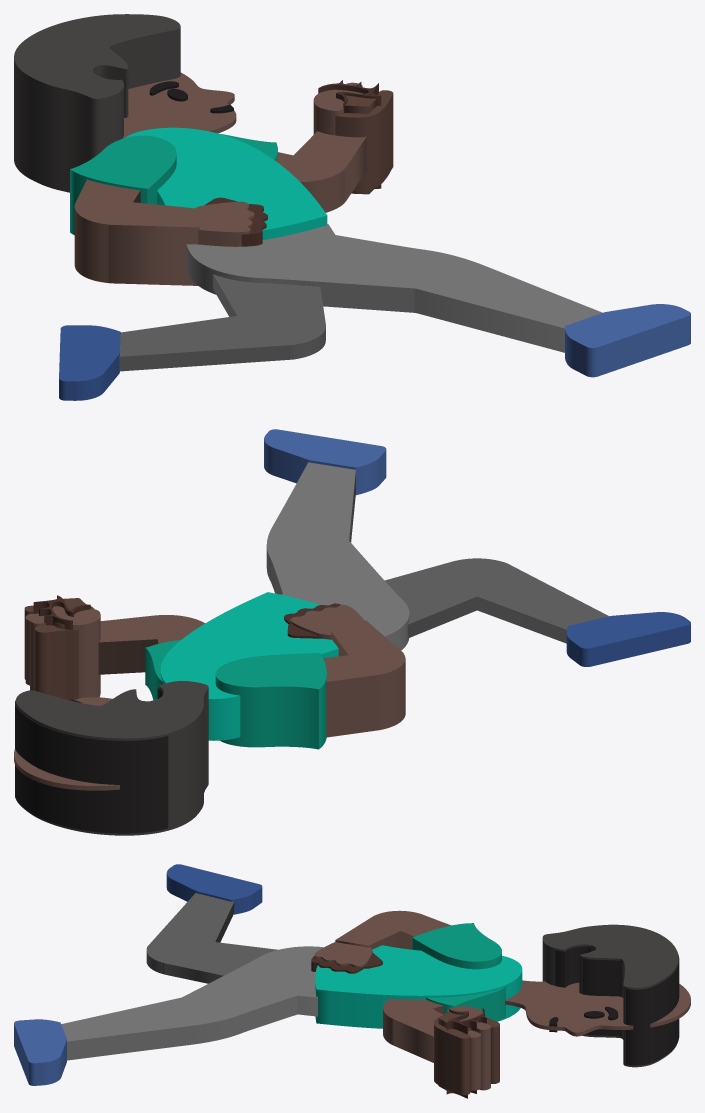
The model's file is emoji_u1f3c3_1f3ff_200d_2642_200d_27a1.glb.
The picture shows the model from 3 angles, top to bottom: view 1: azimuth 30°, elevation 25°; view 2: azimuth 150°, elevation 25°; view 3: azimuth 270°, elevation 25°; orthographic projection. The views are drawn at different scales.
Visible parts, largest first — view 1: emoji_u1f3c3_1f3ff_200d_2642_200d_27a1; view 2: emoji_u1f3c3_1f3ff_200d_2642_200d_27a1; view 3: emoji_u1f3c3_1f3ff_200d_2642_200d_27a1.
Part boxes in pixels (x1,y1,x2,y2): emoji_u1f3c3_1f3ff_200d_2642_200d_27a1: (14, 14, 690, 400); emoji_u1f3c3_1f3ff_200d_2642_200d_27a1: (14, 429, 690, 835); emoji_u1f3c3_1f3ff_200d_2642_200d_27a1: (14, 864, 690, 1098).
Bounding box in the file's own units: 0.023 × 0.0042 × 0.0325.
